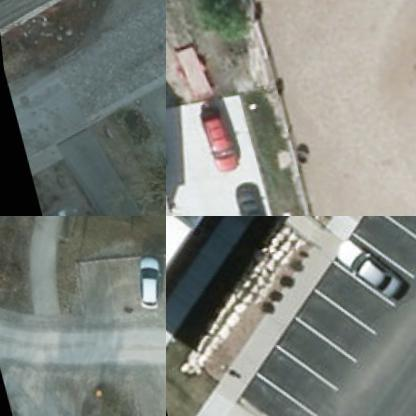car: (326, 229, 404, 307), (197, 100, 238, 176), (129, 256, 165, 311), (233, 179, 275, 215)
